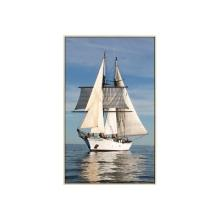fanchuan: (72, 55, 150, 151)
